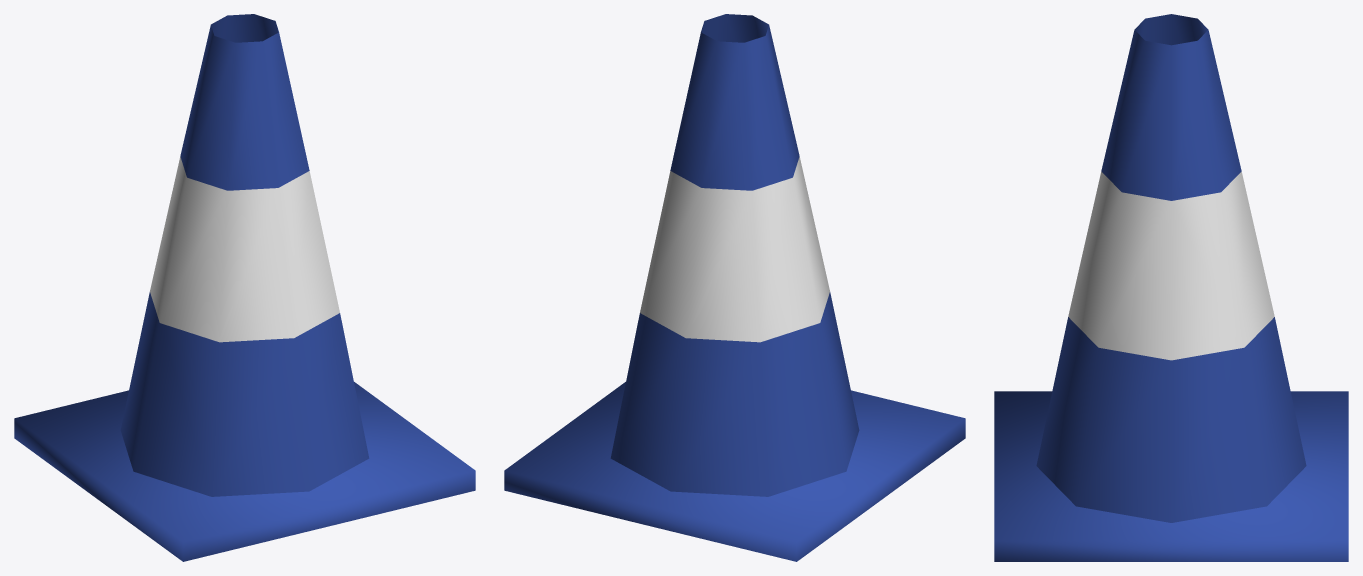
The model's file is BlueConeLowPoly.dae.
3 views of the same model, side by side, from view 1: azimuth 30°, elevation 25°; view 2: azimuth 150°, elevation 25°; view 3: azimuth 270°, elevation 25° (orthographic). The views are drawn at different scales.
Parts seen in each view (by area): view 1: BlauCone; view 2: BlauCone; view 3: BlauCone.
Boxes of the visible parts, x1,y1,x2,y2 form: BlauCone: (14,14,475,561); BlauCone: (504,14,965,561); BlauCone: (994,14,1348,561).
Bounding box in the file's own units: 0.228 × 0.228 × 0.325.
